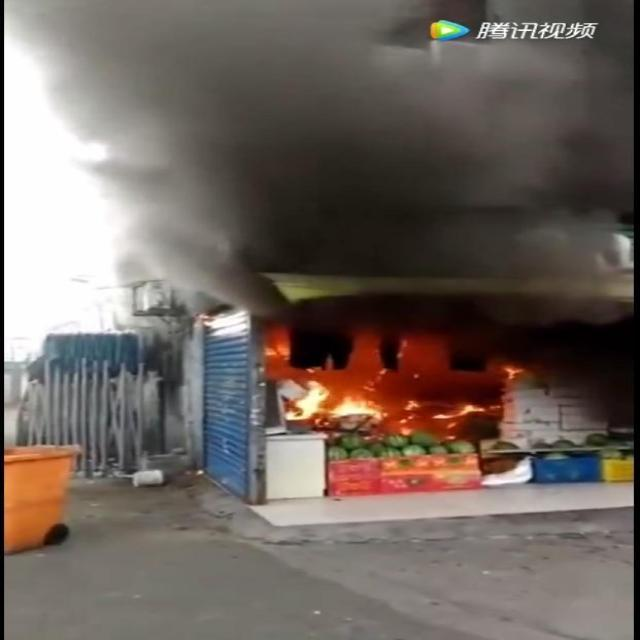Fire: (262, 338, 526, 441)
Smoke: (1, 1, 634, 320)
